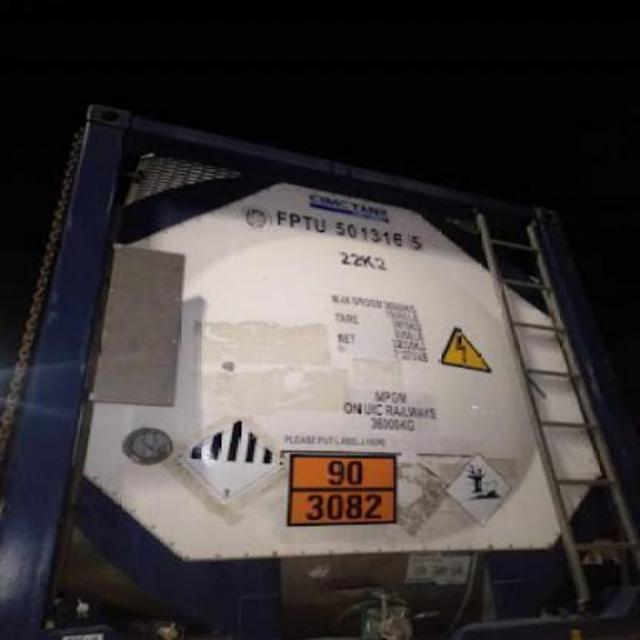0: (347, 223, 358, 240)
1: (382, 230, 392, 246), (360, 225, 368, 243)
3: (370, 227, 382, 246)
5: (408, 234, 424, 252), (334, 220, 346, 238)
6: (393, 232, 403, 248)
F: (276, 210, 286, 228)
P: (289, 211, 301, 229)
T: (302, 214, 312, 232)
U: (314, 216, 326, 234)
